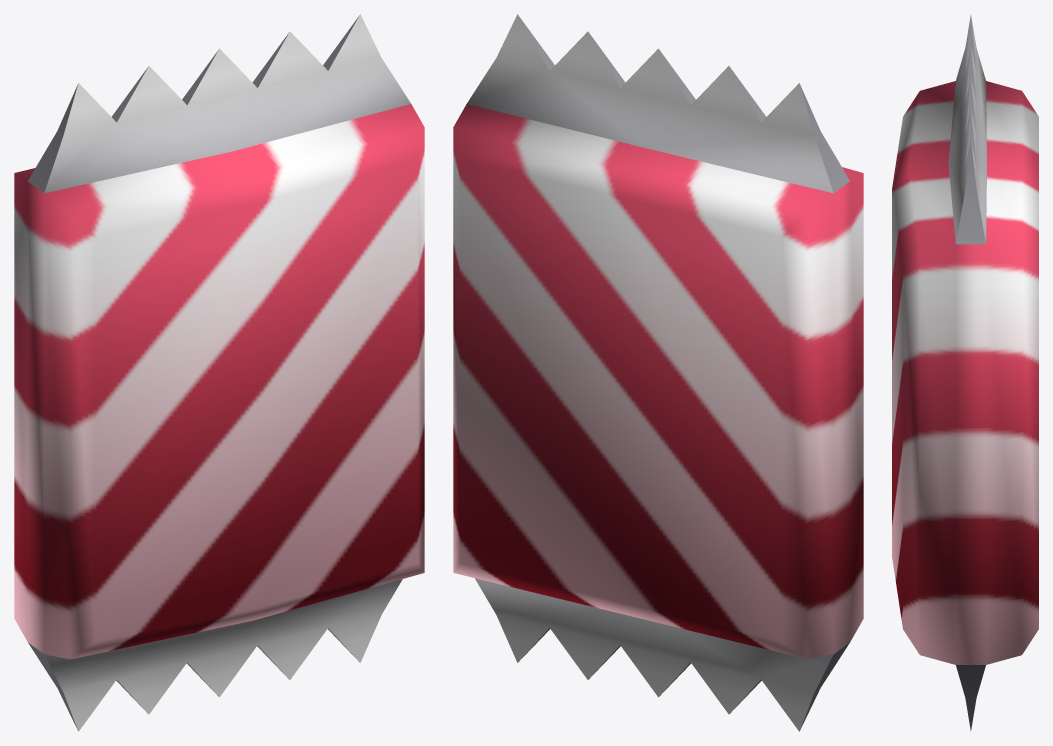
The model's file is m_IceCreamWrapper01.fbx.
3 renders of one model, left to right at view 1: azimuth 30°, elevation 25°; view 2: azimuth 150°, elevation 25°; view 3: azimuth 270°, elevation 25°, orthographic. The views are drawn at different scales.
Parts seen in each view (by area): view 1: m_IceCreamWrapper01; view 2: m_IceCreamWrapper01; view 3: m_IceCreamWrapper01.
Part boxes in pixels (bbox=[...]): m_IceCreamWrapper01: bbox=[14, 14, 424, 731]; m_IceCreamWrapper01: bbox=[453, 14, 863, 731]; m_IceCreamWrapper01: bbox=[892, 15, 1038, 730].
Size of the model in its own units: 13.67 by 23.1 by 5.19.
